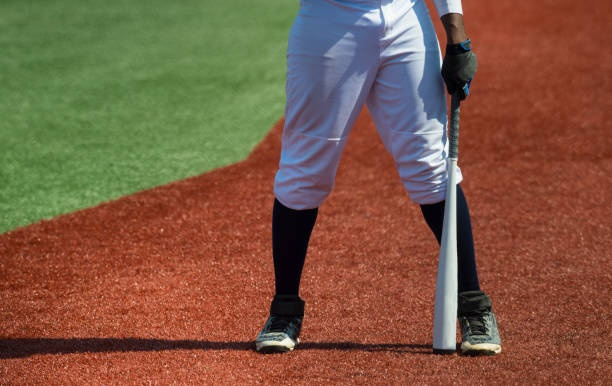bita: (421, 56, 473, 348)
